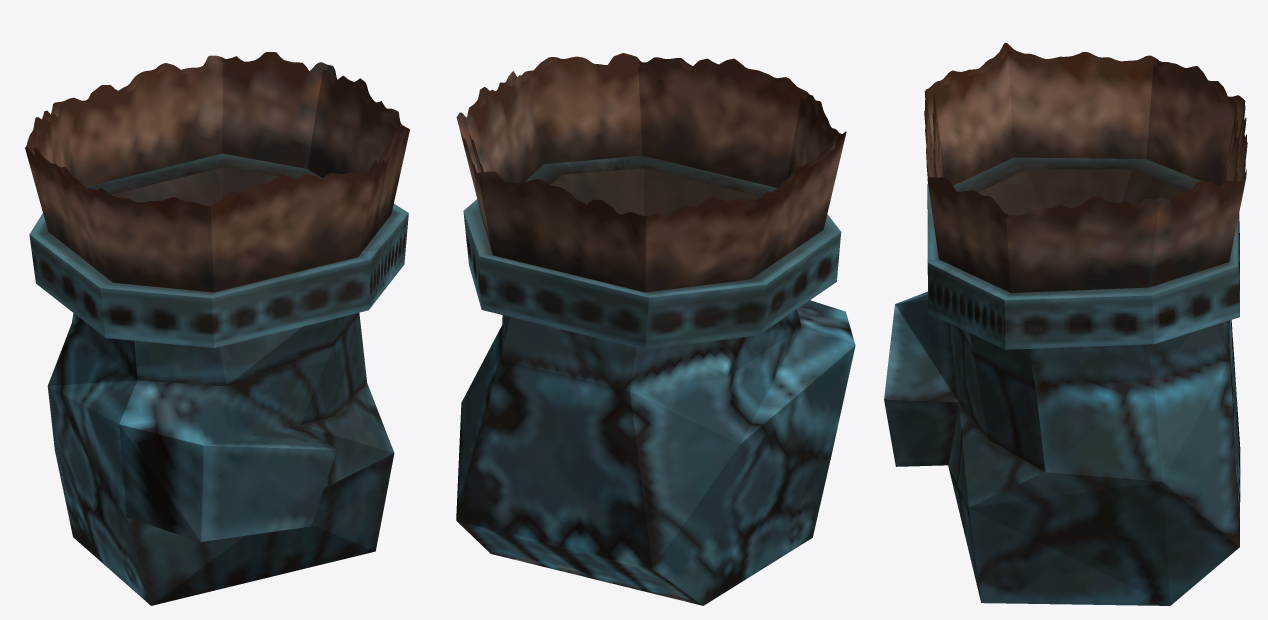
The model's file is Panda_metalKnuckle_left.obj.
3 views of the same model, side by side, from view 1: azimuth 30°, elevation 25°; view 2: azimuth 150°, elevation 25°; view 3: azimuth 270°, elevation 25° (orthographic).
Parts seen in each view (by area): view 1: Panda_metalKnuckle_tri [left]; view 2: Panda_metalKnuckle_tri [left]; view 3: Panda_metalKnuckle_tri [left].
Part boxes in pixels (x1=…): Panda_metalKnuckle_tri [left]: x1=25, y1=52, x2=409, y2=605; Panda_metalKnuckle_tri [left]: x1=456, y1=53, x2=855, y2=605; Panda_metalKnuckle_tri [left]: x1=884, y1=42, x2=1247, y2=605.
Bounding box in the file's own units: 0.2139 × 0.2774 × 0.2041.
1 material, 1 textured.
